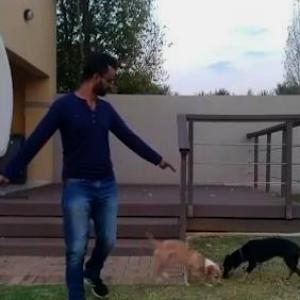land: (1, 33, 201, 299)
